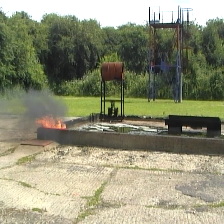fire_h: (35, 115, 66, 129)
